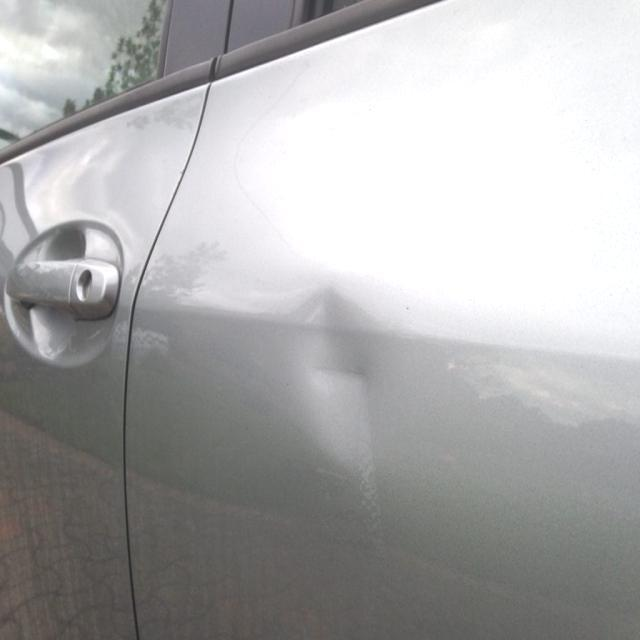minor: (257, 262, 392, 500)
